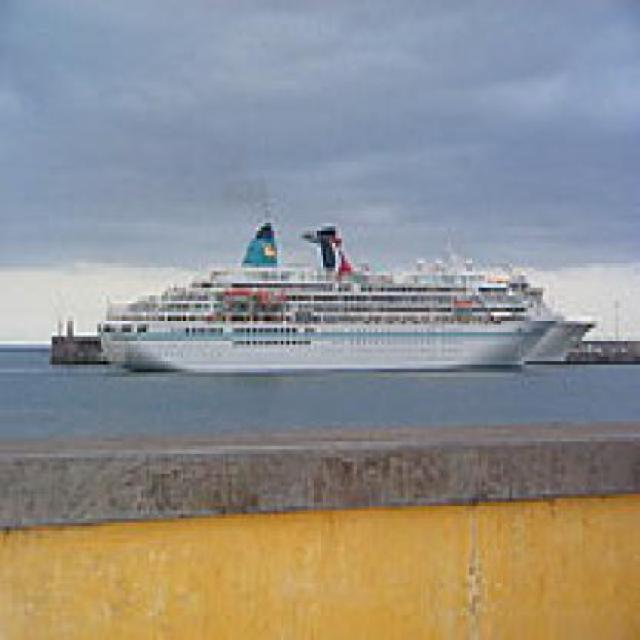cruise: (99, 220, 562, 383)
